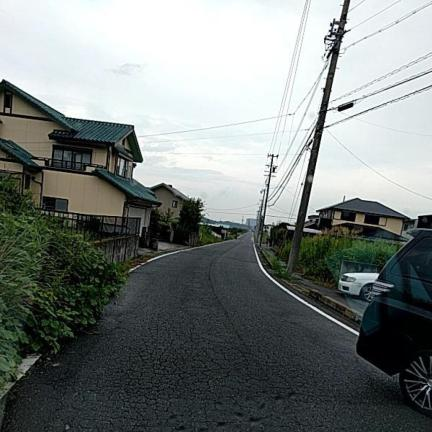Road: (3, 235, 431, 431)
